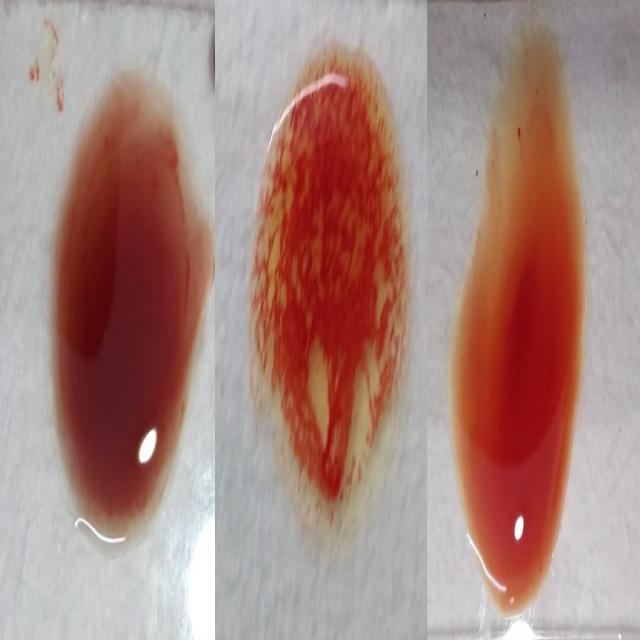B: (248, 48, 408, 509)
